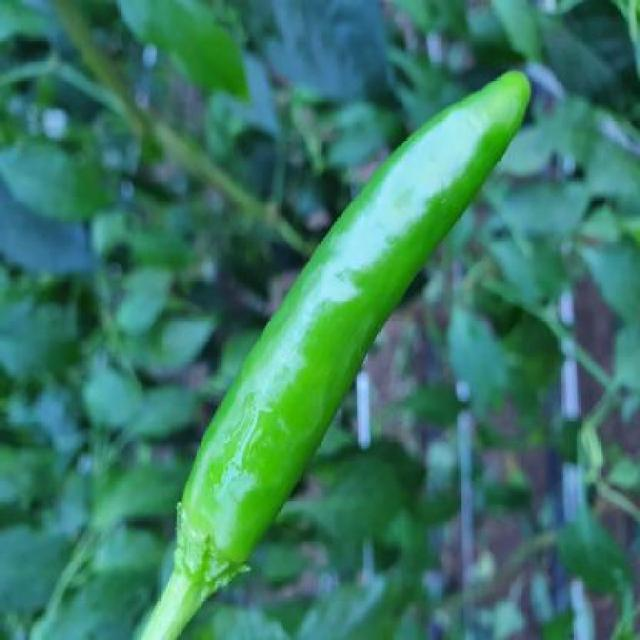green chilli: (148, 71, 530, 640)
